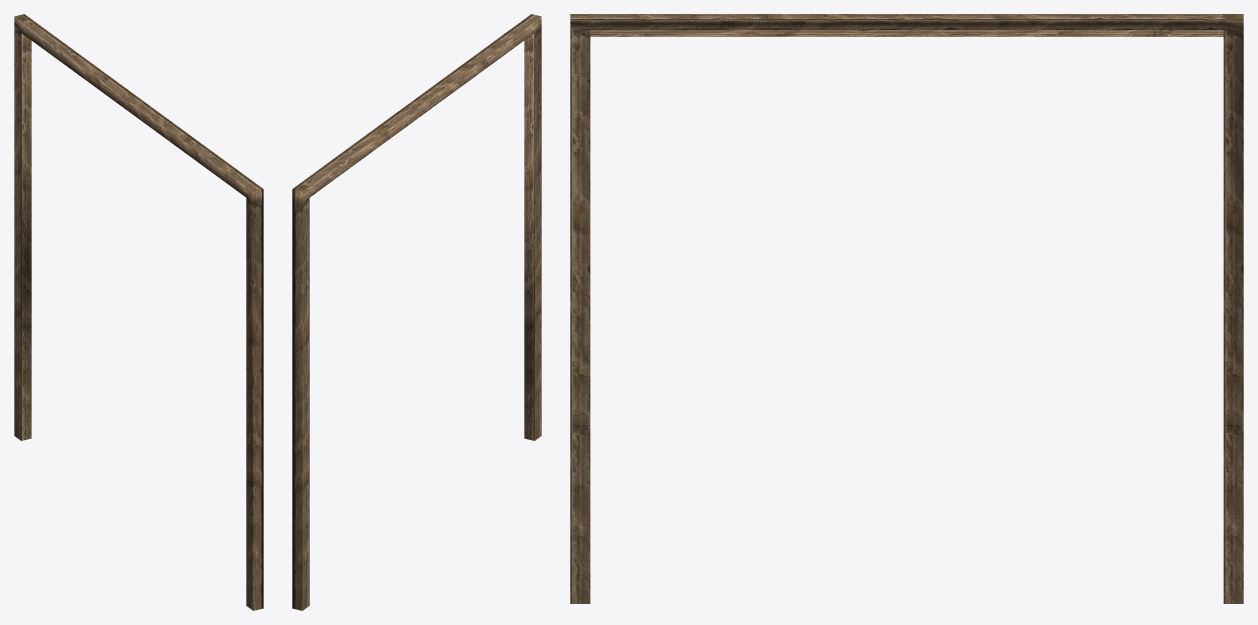
File: temple_uvmapped_merged_doortrim.fbx
3 renders of one model, left to right at view 1: azimuth 30°, elevation 25°; view 2: azimuth 150°, elevation 25°; view 3: azimuth 270°, elevation 25°, orthographic. The views are drawn at different scales.
Parts seen in each view (by area): view 1: outertop.002; view 2: outertop.002; view 3: outertop.002.
Boxes of the visible parts, box(x1,y1,x2,y2) form: outertop.002: box(14, 14, 263, 610); outertop.002: box(292, 14, 541, 610); outertop.002: box(570, 14, 1243, 603).
Size of the model in its own units: 0.965 by 37.54 by 38.82.
Materials: 1 (1 with a texture image).
